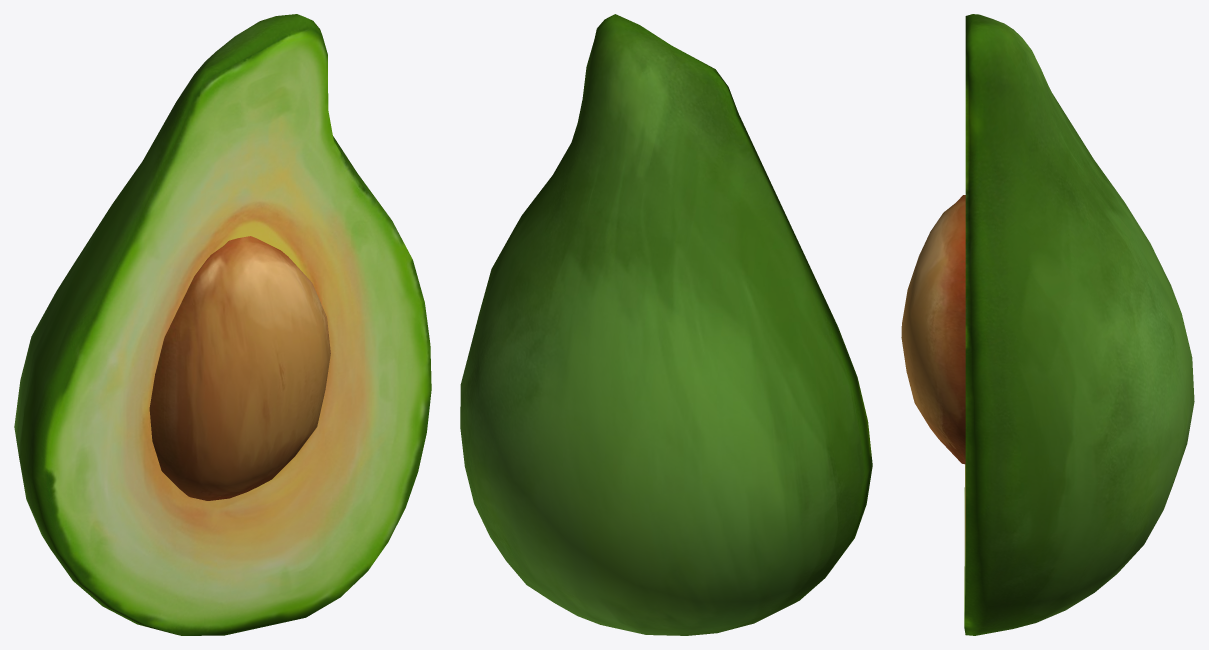
Rendered from salad_bahor.glb.
3 views of the same model, side by side, from view 1: azimuth 30°, elevation 25°; view 2: azimuth 150°, elevation 25°; view 3: azimuth 270°, elevation 25° (orthographic). The views are drawn at different scales.
Visible parts, largest first — view 1: Avocado; view 2: Avocado; view 3: Avocado.
Part boxes in pixels (x1=…): Avocado: x1=14, y1=14, x2=431, y2=635; Avocado: x1=460, y1=14, x2=872, y2=635; Avocado: x1=901, y1=14, x2=1194, y2=635.
Bounding box in the file's own units: 0.2 × 0.2956 × 0.1298.
1 material, 1 textured.
